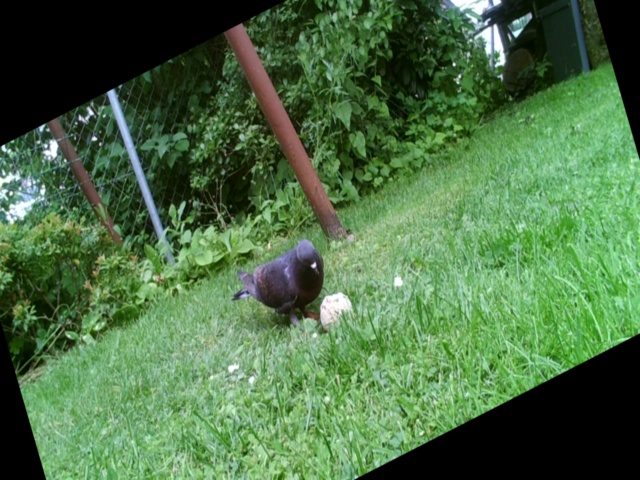Pigeon: (228, 235, 336, 330)
